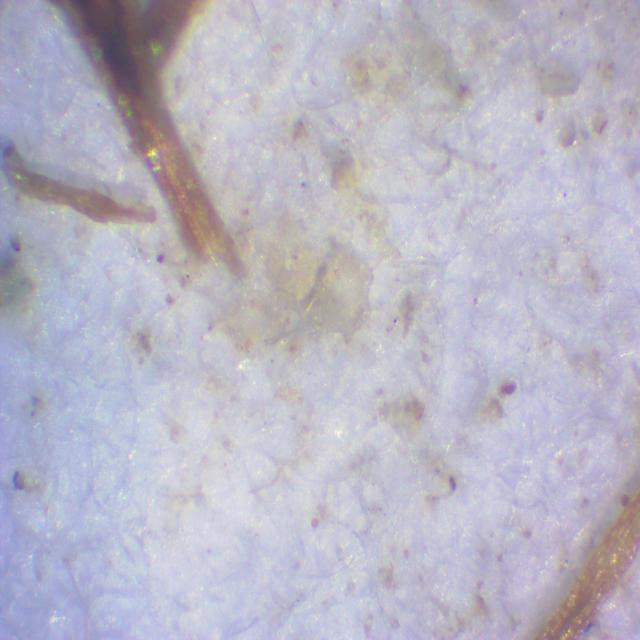microplastic: (234, 229, 366, 352)
